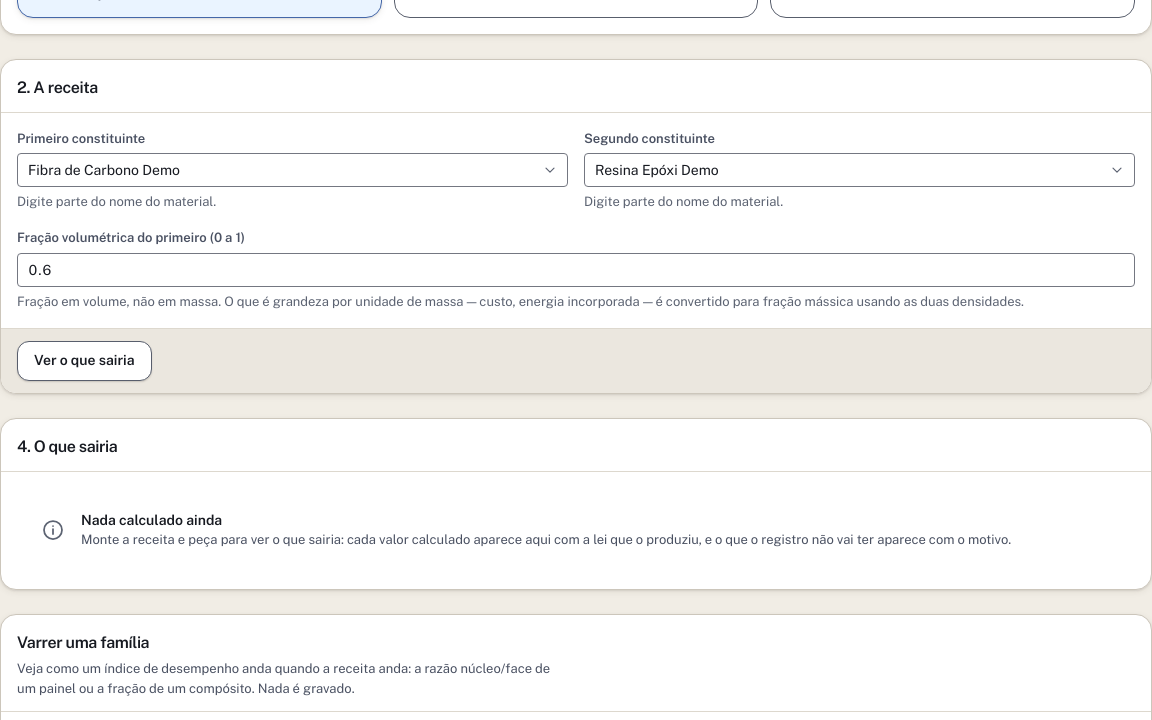
it: Sintetizar material › mostra a lei e a base ao lado de cada valor
(page scrolled)
Click the button "Ver o que sairia": (84, 360) left=17, top=340, right=152, bottom=380
(page scrolled)
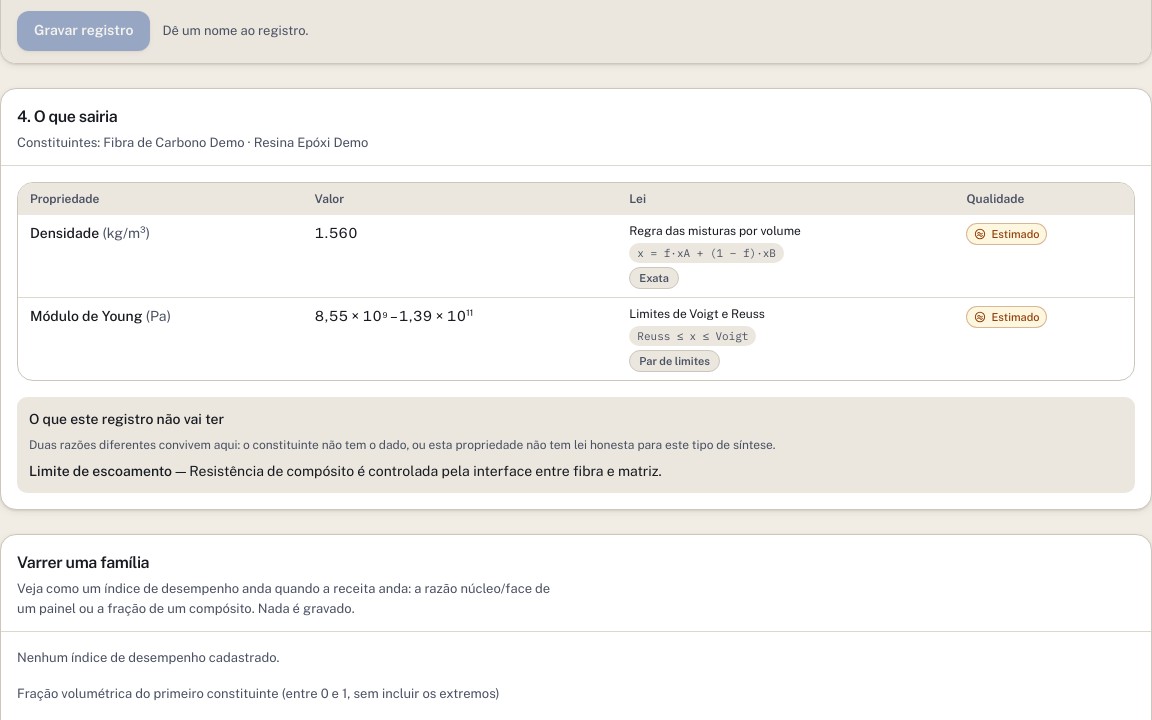
Result: the text "Regra das misturas por volume" is shown at left=629, top=222, right=801, bottom=238
Result: the text "x = f·xA + (1 − f)·xB" is shown at left=629, top=242, right=784, bottom=262
Result: the text "Exata" is shown at left=629, top=266, right=679, bottom=288
